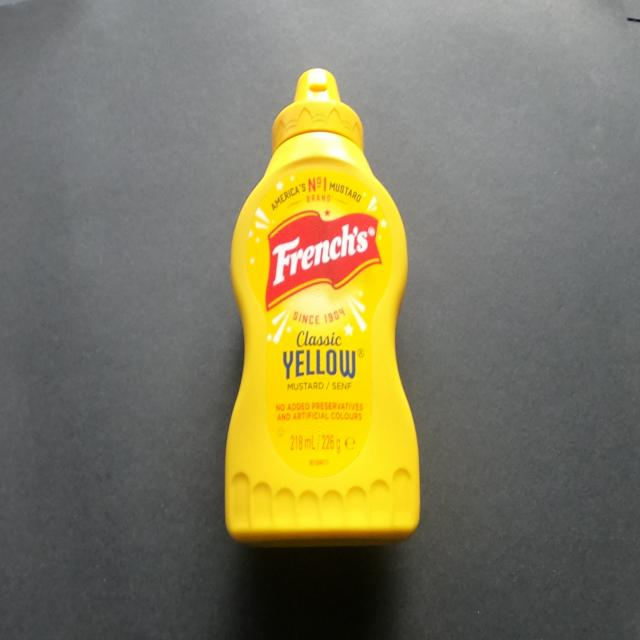Mustard: (204, 43, 438, 560)
